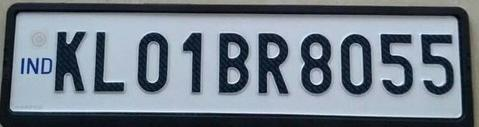0: (339, 32, 375, 97), (136, 31, 171, 93)
1: (180, 30, 210, 97)
5: (377, 31, 416, 97), (419, 30, 455, 98)
8: (299, 32, 333, 95)
B: (217, 31, 252, 96)
K: (53, 28, 90, 95)
L: (93, 28, 126, 95)
R: (256, 32, 292, 95)
